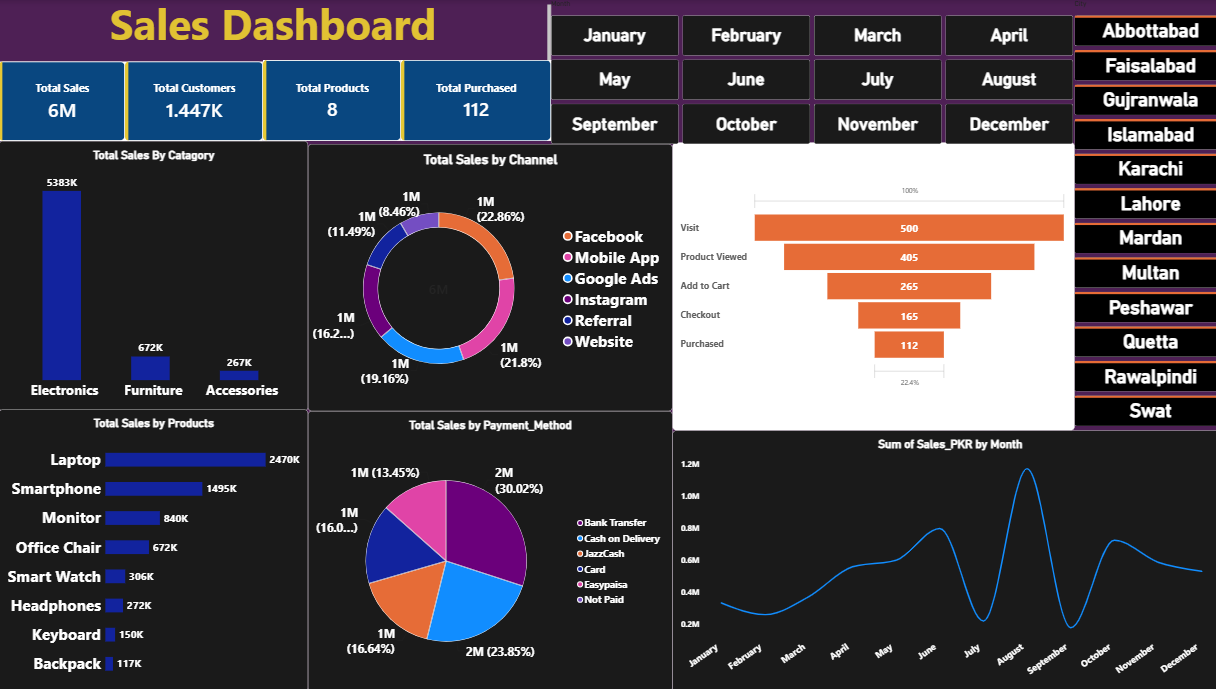

Layout of this report page (visuals, bound fields, positions):
{"tool":"powerbi","page":{"name":"Page 1","canvas":[2560,1440],"ordinal":0},"visuals":[{"type":"cardVisual","title":"Total Sales","fields":{"Data":["Sum(Sales_Data.Sales_PKR)"]},"box":[0,128.2,262.6,165.7],"z":0},{"type":"cardVisual","title":"Total Sales","fields":{"Data":["CountNonNull(Sales_Data.Customer_ID)"]},"box":[262.6,128.2,287.6,165.7],"z":1000},{"type":"funnel","fields":{"Category":["Sales_Data.Funnel_Stage"],"Y":["CountNonNull(Sales_Data.Sales_PKR)"]},"box":[1403.6,297,837.8,600.2],"z":2000},{"type":"columnChart","title":"Total Sales By Catagory","fields":{"Category":["Sales_Data.Category"],"Y":["Sum(Sales_Data.Sales_PKR)"]},"box":[0,293.8,644,562.7],"z":3000},{"type":"clusteredBarChart","title":"Total Sales by Products","fields":{"Category":["Sales_Data.Product"],"Y":["Sum(Sales_Data.Sales_PKR)"]},"box":[0,853.4,644,587.7],"z":4000},{"type":"cardVisual","title":"Total Sales","fields":{"Data":["CountNonNull(Product_Lookup.Product)"]},"box":[550.2,125,287.6,168.8],"z":5000},{"type":"pieChart","fields":{"Category":["Sales_Data.Payment_Method"],"Y":["Sum(Sales_Data.Sales_PKR)"]},"box":[644,856.5,759.6,584.6],"z":6000},{"type":"lineChart","fields":{"Category":["Sales_Data.Date.Variation.Date Hierarchy.Month"],"Y":["Sum(Sales_Data.Sales_PKR)"]},"box":[1403.6,897.2,1156.6,543.9],"z":7000},{"type":"donutChart","fields":{"Category":["Sales_Data.Channel"],"Y":["Sum(Sales_Data.Sales_PKR)"]},"box":[644,300.1,759.6,556.4],"z":8000},{"type":"advancedSlicerVisual","fields":{"Values":["Sales_Data.City"]},"box":[2241.3,0,318.8,897.2],"z":9000},{"type":"advancedSlicerVisual","fields":{"Values":["Sales_Data.Date.Variation.Date Hierarchy.Month"]},"box":[1150.4,0,1091,300.1],"z":10000},{"type":"textbox","box":[0,0,1150.4,125],"z":11000},{"type":"cardVisual","title":"Total Sales","fields":{"Data":["Sales_Data.Total Purchased"]},"box":[837.8,125,312.6,168.8],"z":11001}]}

Visuals, with their boxes in screenshot pixels (x1, y1, x2, y2), scaled from the page's 2560x1440 canvas onto the 1216x689 screenshot:
"Total Sales" cardVisual: l=0, t=61, r=125, b=141
"Total Sales" cardVisual: l=125, t=61, r=261, b=141
funnel - Sales_Data.Funnel_Stage x CountNonNull(Sales_Data.Sales_PKR): l=667, t=142, r=1065, b=429
"Total Sales By Catagory" columnChart: l=0, t=141, r=306, b=410
"Total Sales by Products" clusteredBarChart: l=0, t=408, r=306, b=688
"Total Sales" cardVisual: l=261, t=60, r=398, b=141
pieChart - Sales_Data.Payment_Method x Sum(Sales_Data.Sales_PKR): l=306, t=410, r=667, b=688
lineChart - Sales_Data.Date.Variation.Date Hierarchy.Month x Sum(Sales_Data.Sales_PKR): l=667, t=429, r=1215, b=688
donutChart - Sales_Data.Channel x Sum(Sales_Data.Sales_PKR): l=306, t=144, r=667, b=410
advancedSlicerVisual - Sales_Data.City: l=1065, t=0, r=1215, b=429
advancedSlicerVisual - Sales_Data.Date.Variation.Date Hierarchy.Month: l=546, t=0, r=1065, b=144
textbox: l=0, t=0, r=546, b=60
"Total Sales" cardVisual: l=398, t=60, r=546, b=141
